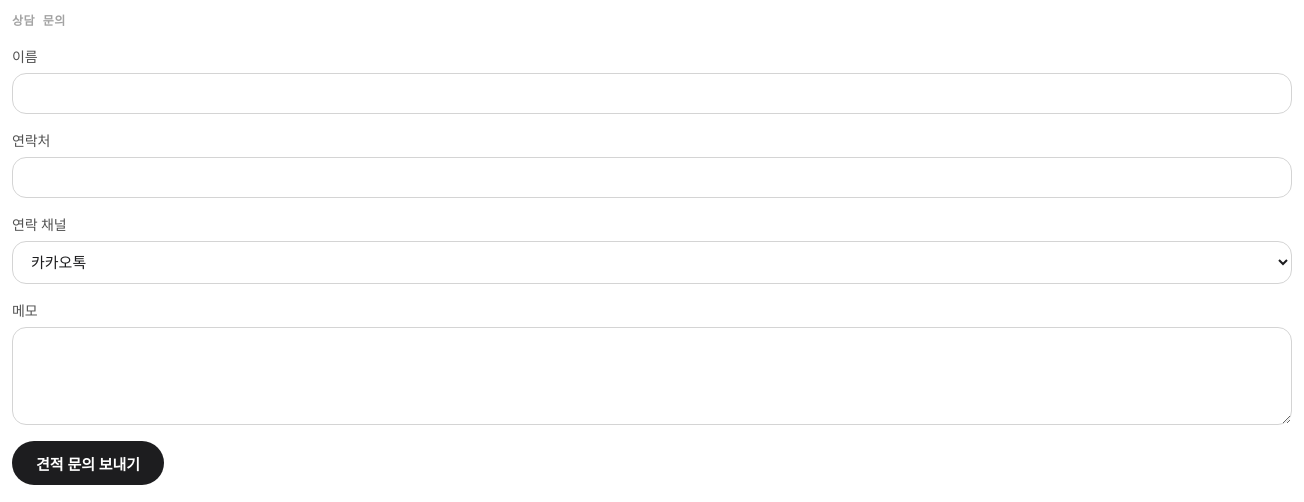
Test: 제출 시 올바른 payload로 fetch + 공유링크 표시
The image size is (1304, 502).
Type "홍길동" into the field labelled "이름" at (652, 94), box [12, 73, 1292, 114]
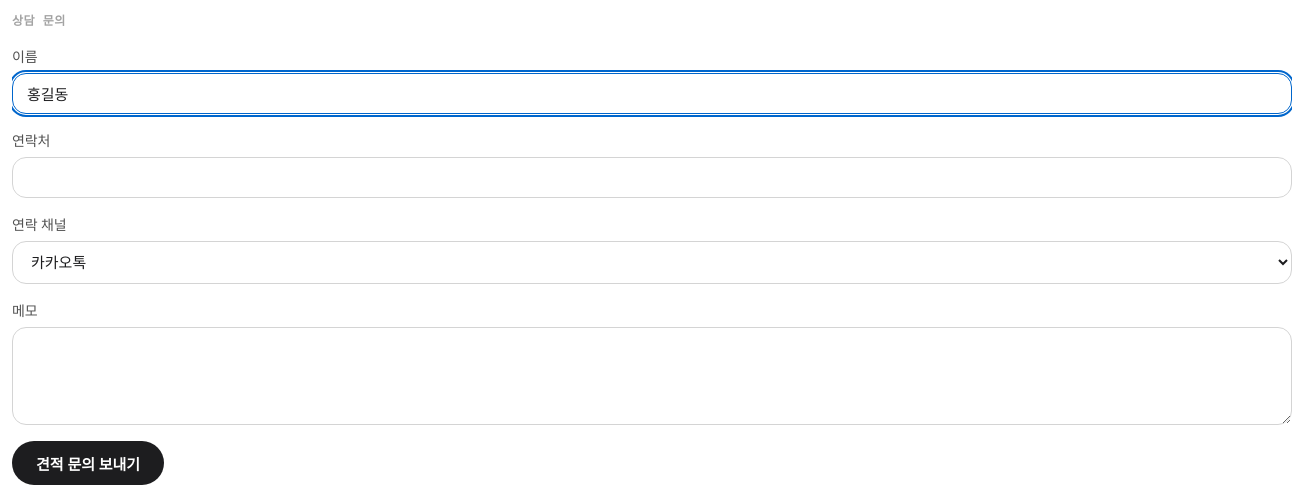
Type "kakao_id" into the field labelled "연락처" at (652, 178), box [12, 157, 1292, 198]
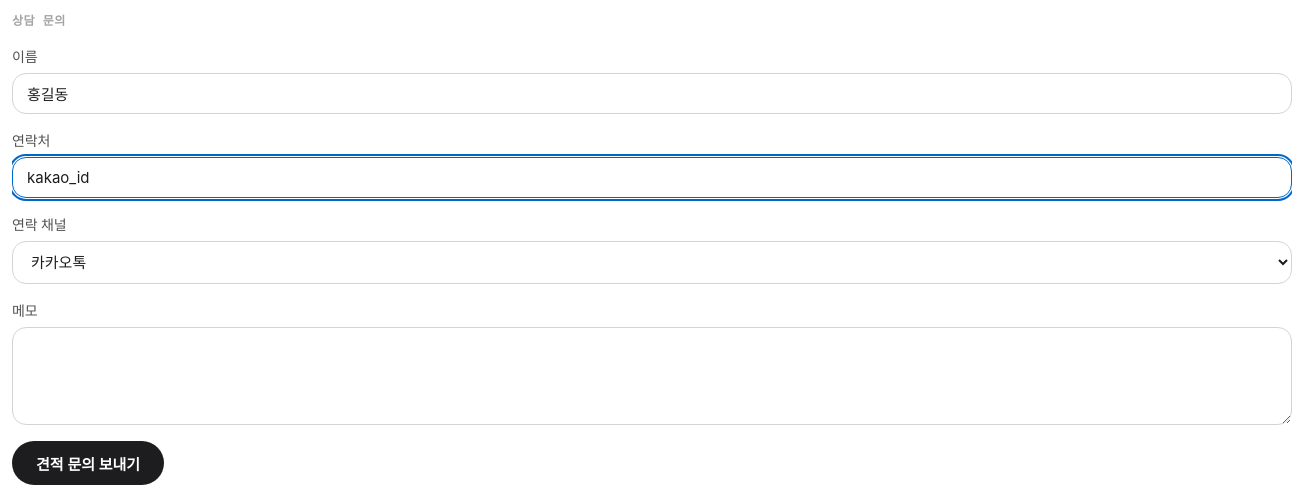
Click the button "견적 문의 보내기" at (88, 463), box [12, 441, 164, 485]
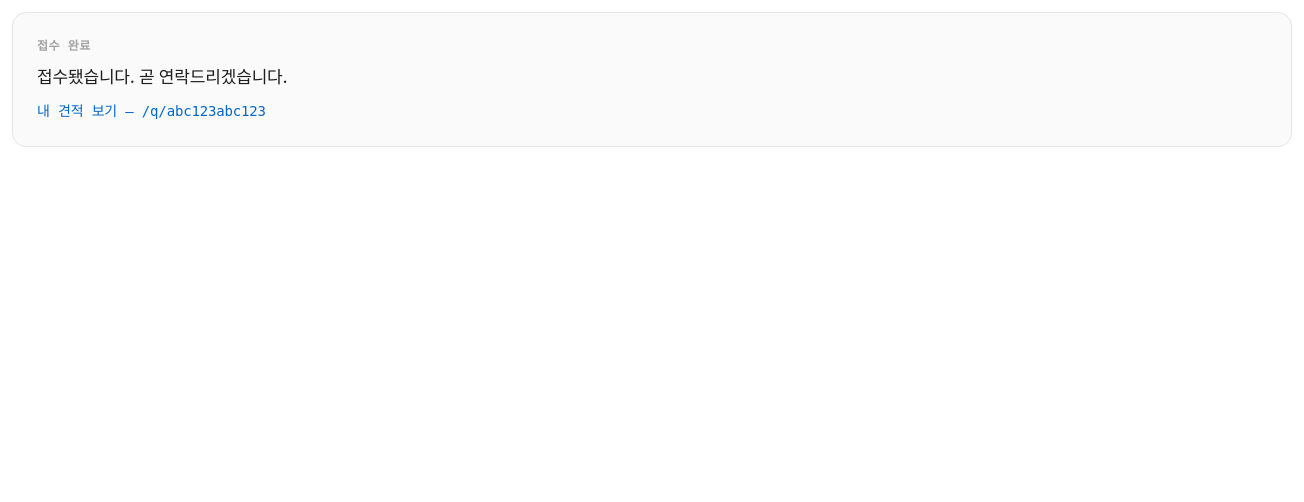
Expected: the link "내 견적 보기 — /q/abc123abc123" is shown, [37, 102, 266, 118]
